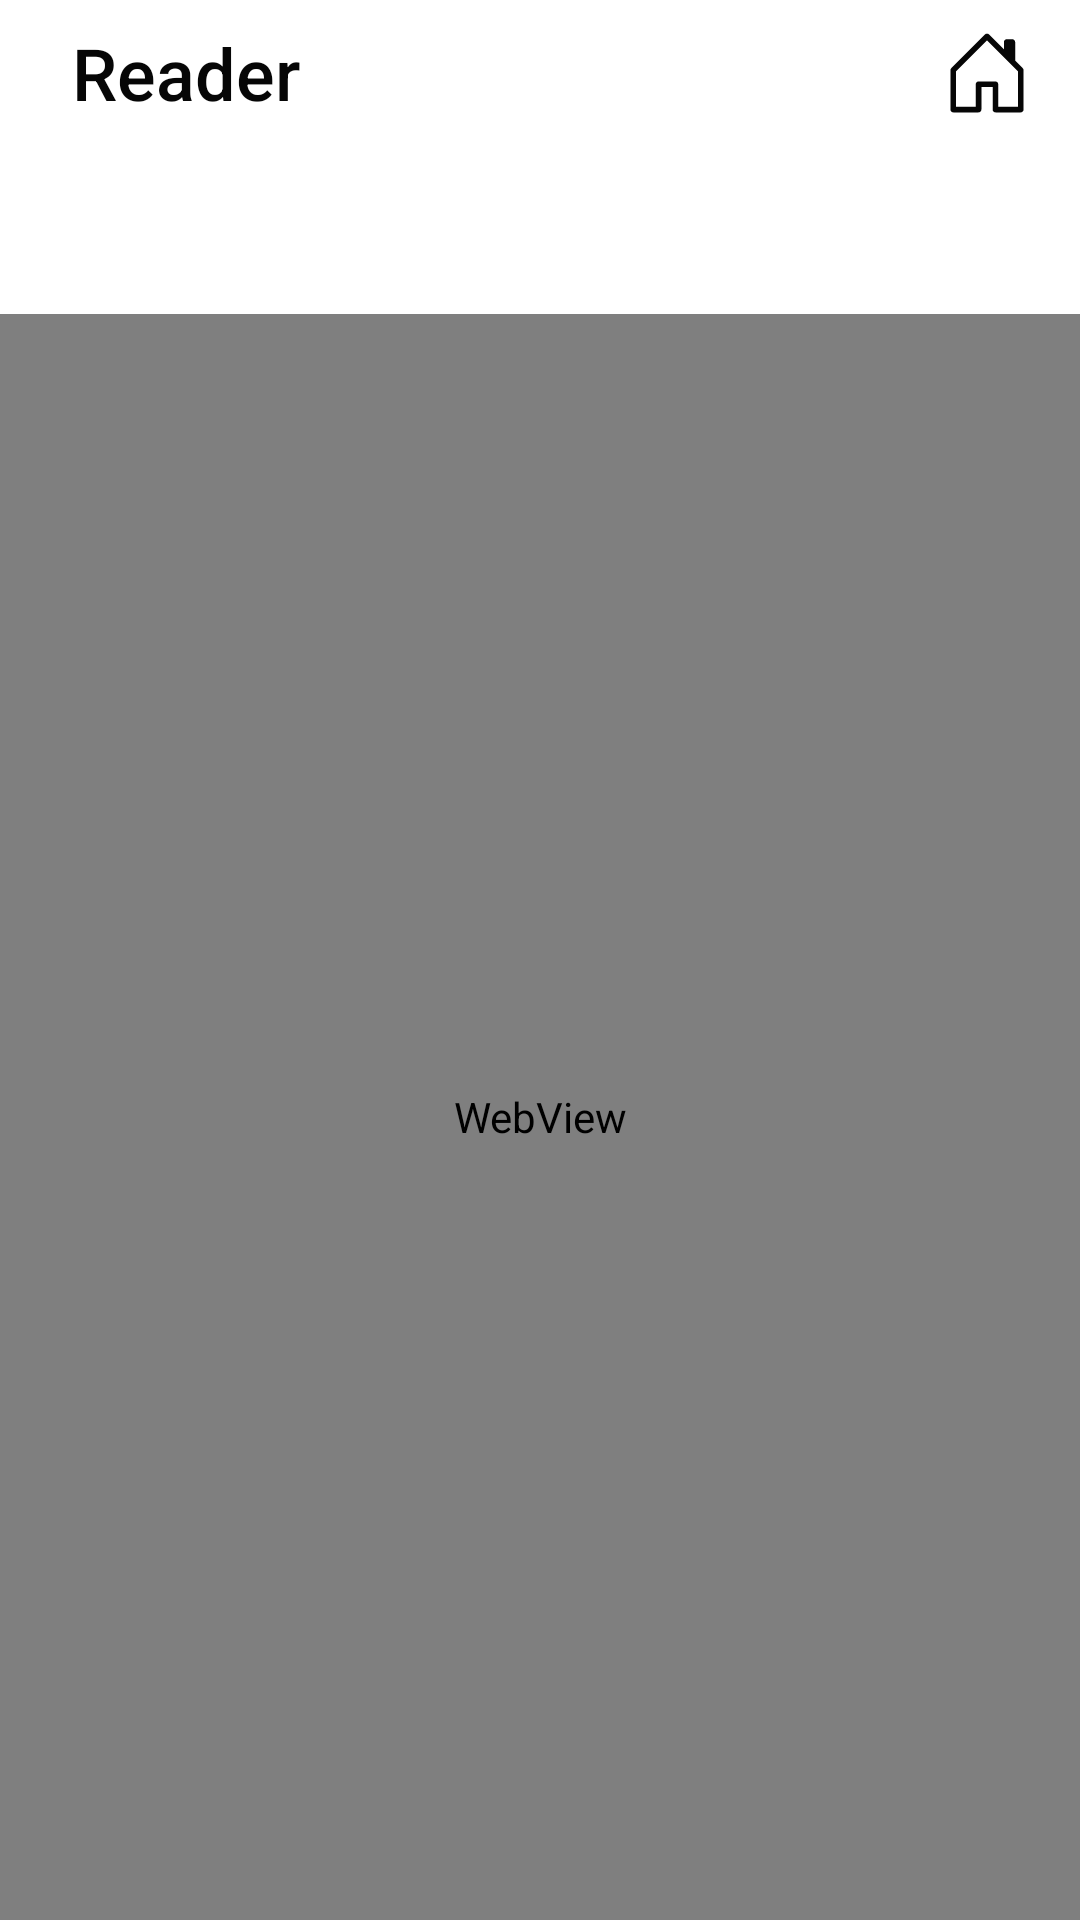

Where to tap for icons on this 1080x1920 app screen, as point (x, y):
Home Button: point (987, 73)
